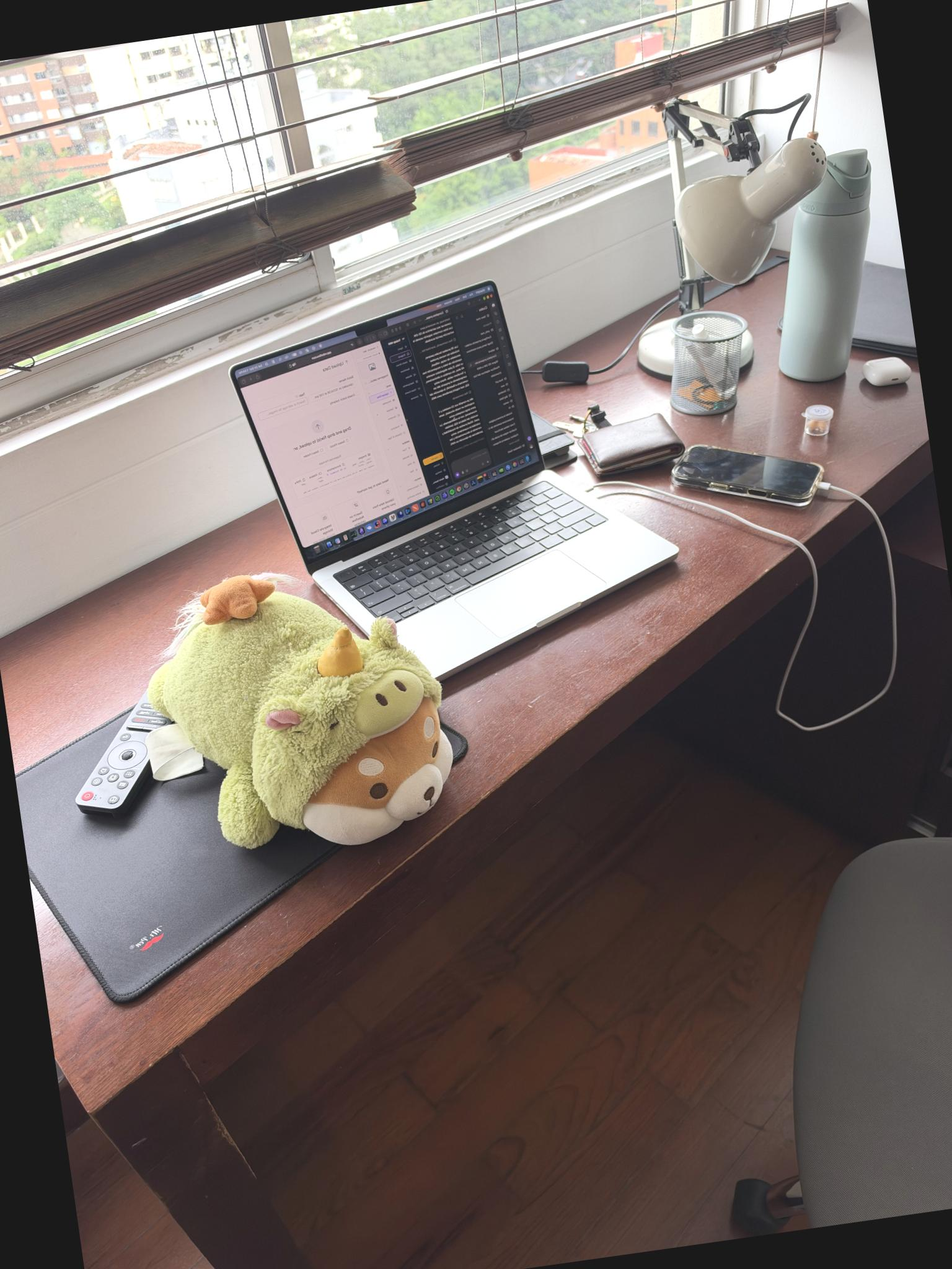peluche_martin: (131, 548, 465, 872)
